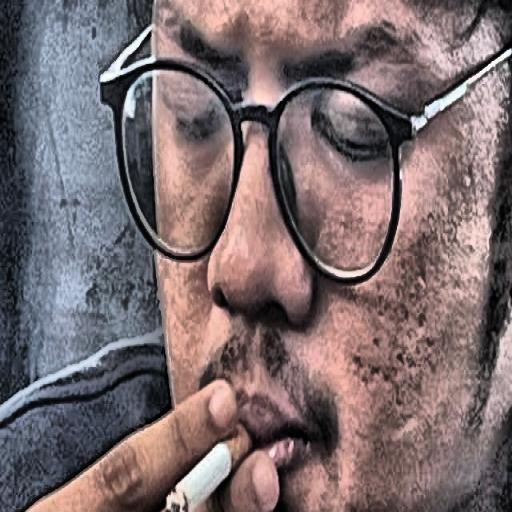Merokok: (166, 428, 251, 512)
Rokok: (0, 0, 512, 512)
